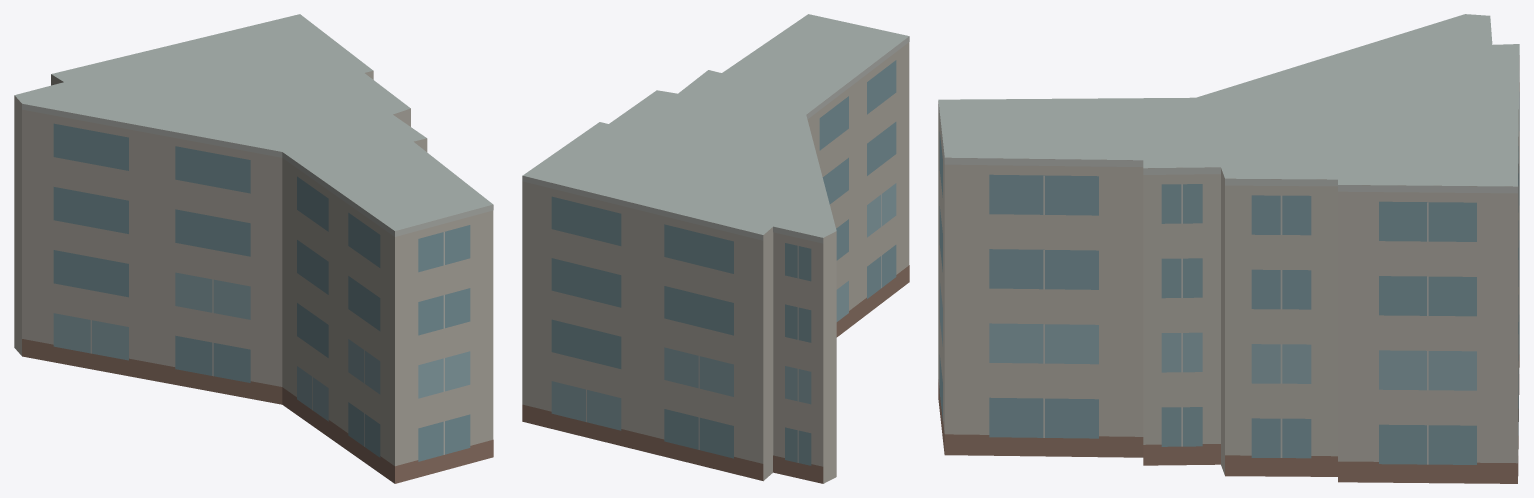
Rendered from survey-upis-32791945.glb.
3 renders of one model, left to right at view 1: azimuth 30°, elevation 25°; view 2: azimuth 150°, elevation 25°; view 3: azimuth 270°, elevation 25°, orthographic. The views are drawn at different scales.
Visible parts, largest first — view 1: survey-upis-32791945.tmp; view 2: survey-upis-32791945.tmp; view 3: survey-upis-32791945.tmp.
Part boxes in pixels (box(x1,y1,x2,y2)): survey-upis-32791945.tmp: box(14, 14, 493, 483); survey-upis-32791945.tmp: box(522, 14, 909, 483); survey-upis-32791945.tmp: box(938, 14, 1519, 483).
Size of the model in its own units: 13.07 by 10.5 by 18.61.
